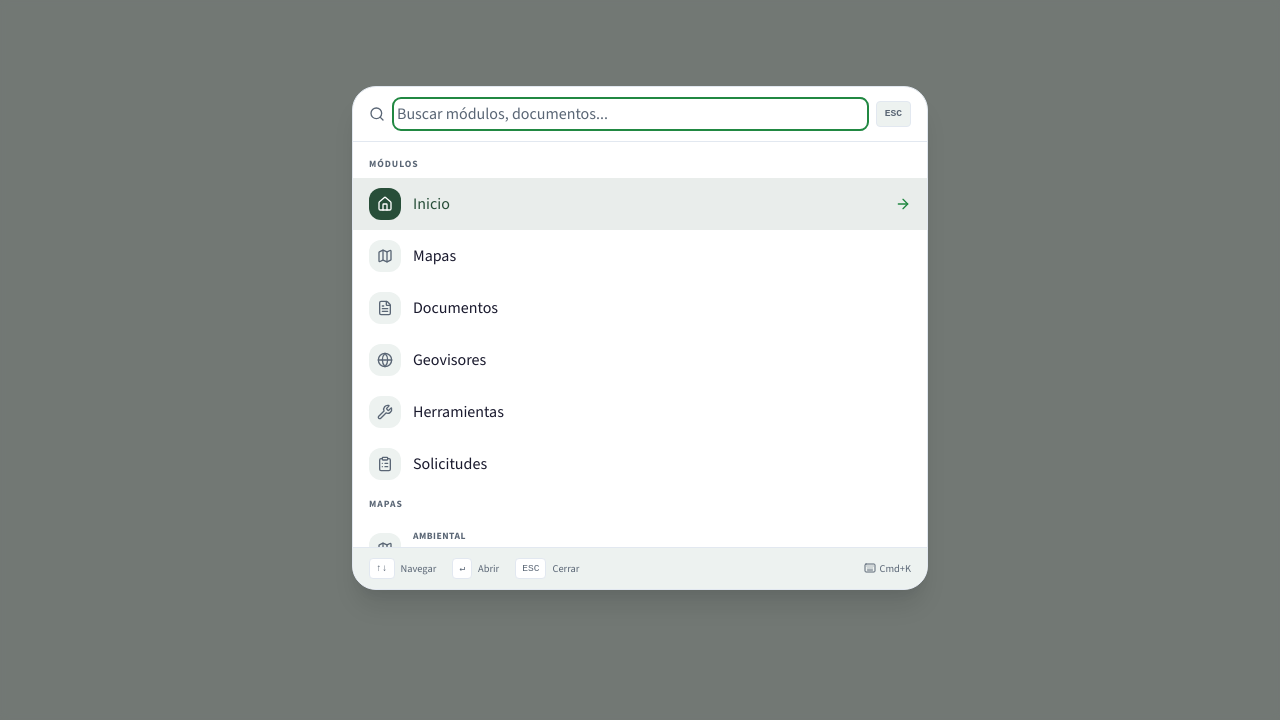
Test: CommandPalette — búsqueda de contenido real › tolera errores de tipeo leves en el título de un resultado real
"Boscosaa" con una letra de más — Levenshtein 1, dentro de tolerancia
In the dropdown: (630, 114) [397,102,864,126], type "Boscosaa"
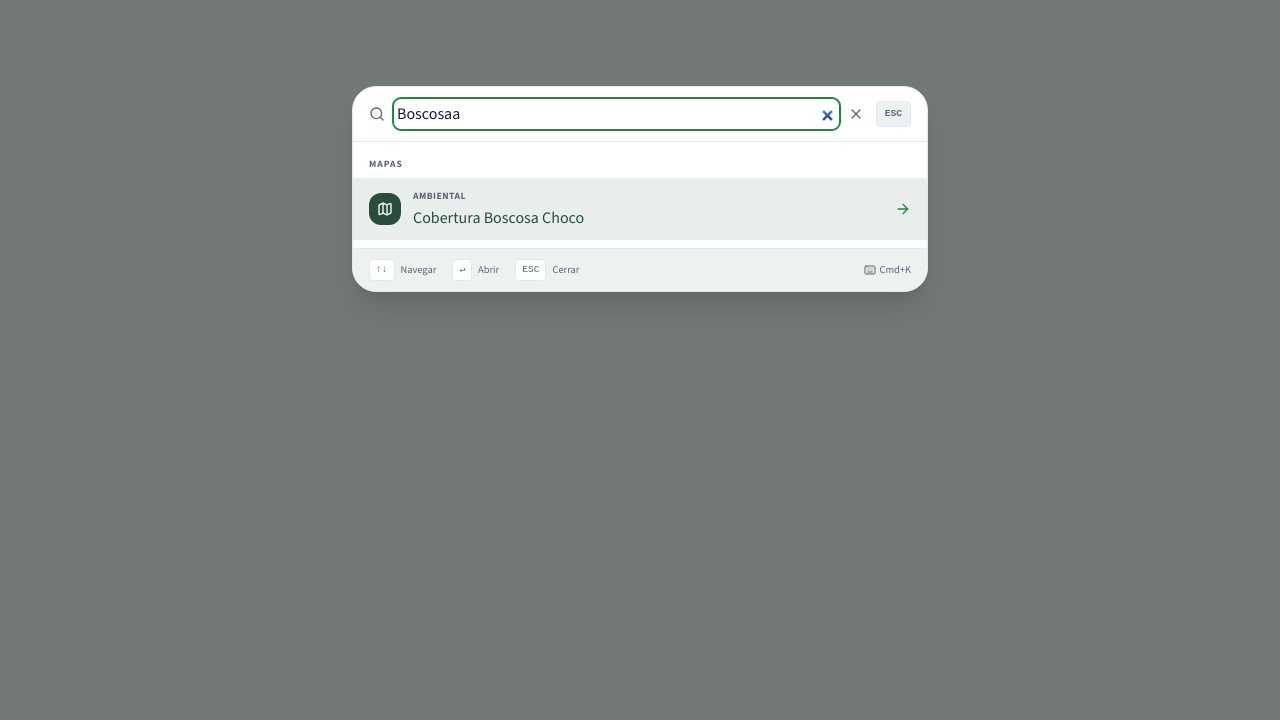
Expected: the text "Cobertura Boscosa Choco" is shown, [413,207,584,228]
